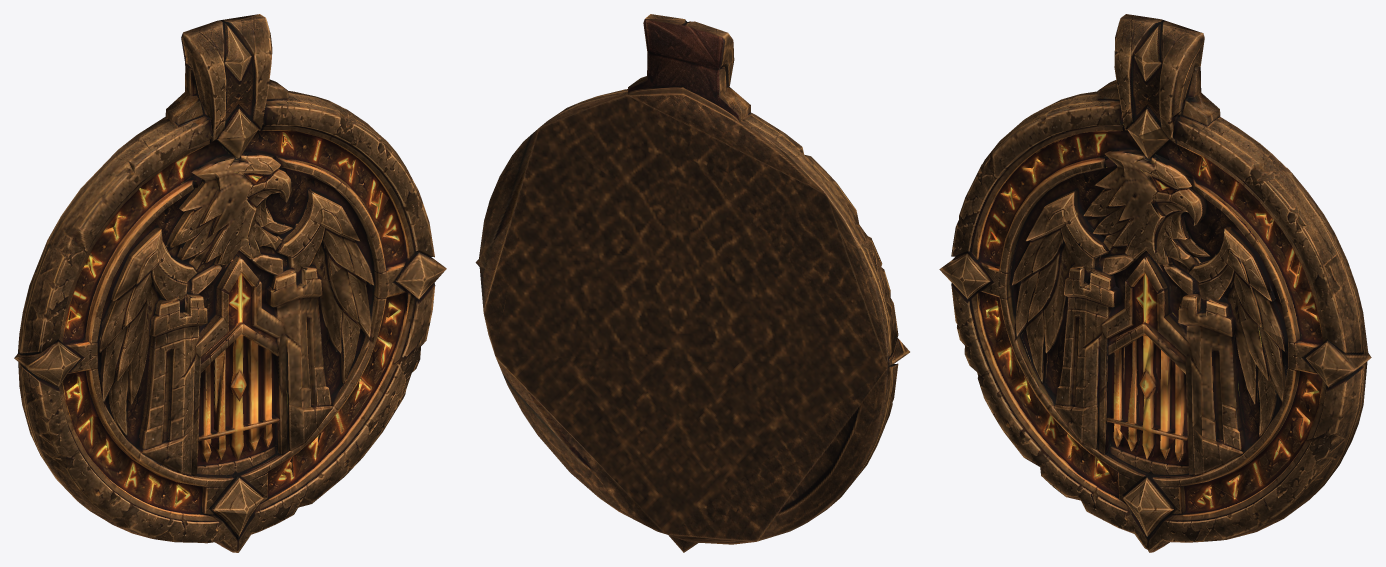
File: named-wardens_oath.glb
3 views of the same model, side by side, from view 1: azimuth 30°, elevation 25°; view 2: azimuth 150°, elevation 25°; view 3: azimuth 330°, elevation 25° (orthographic).
Bounding box in the file's own units: 1.66 × 2 × 0.1793.
Materials: 1 (1 with a texture image).
